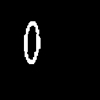chain: (24, 22, 39, 63)
